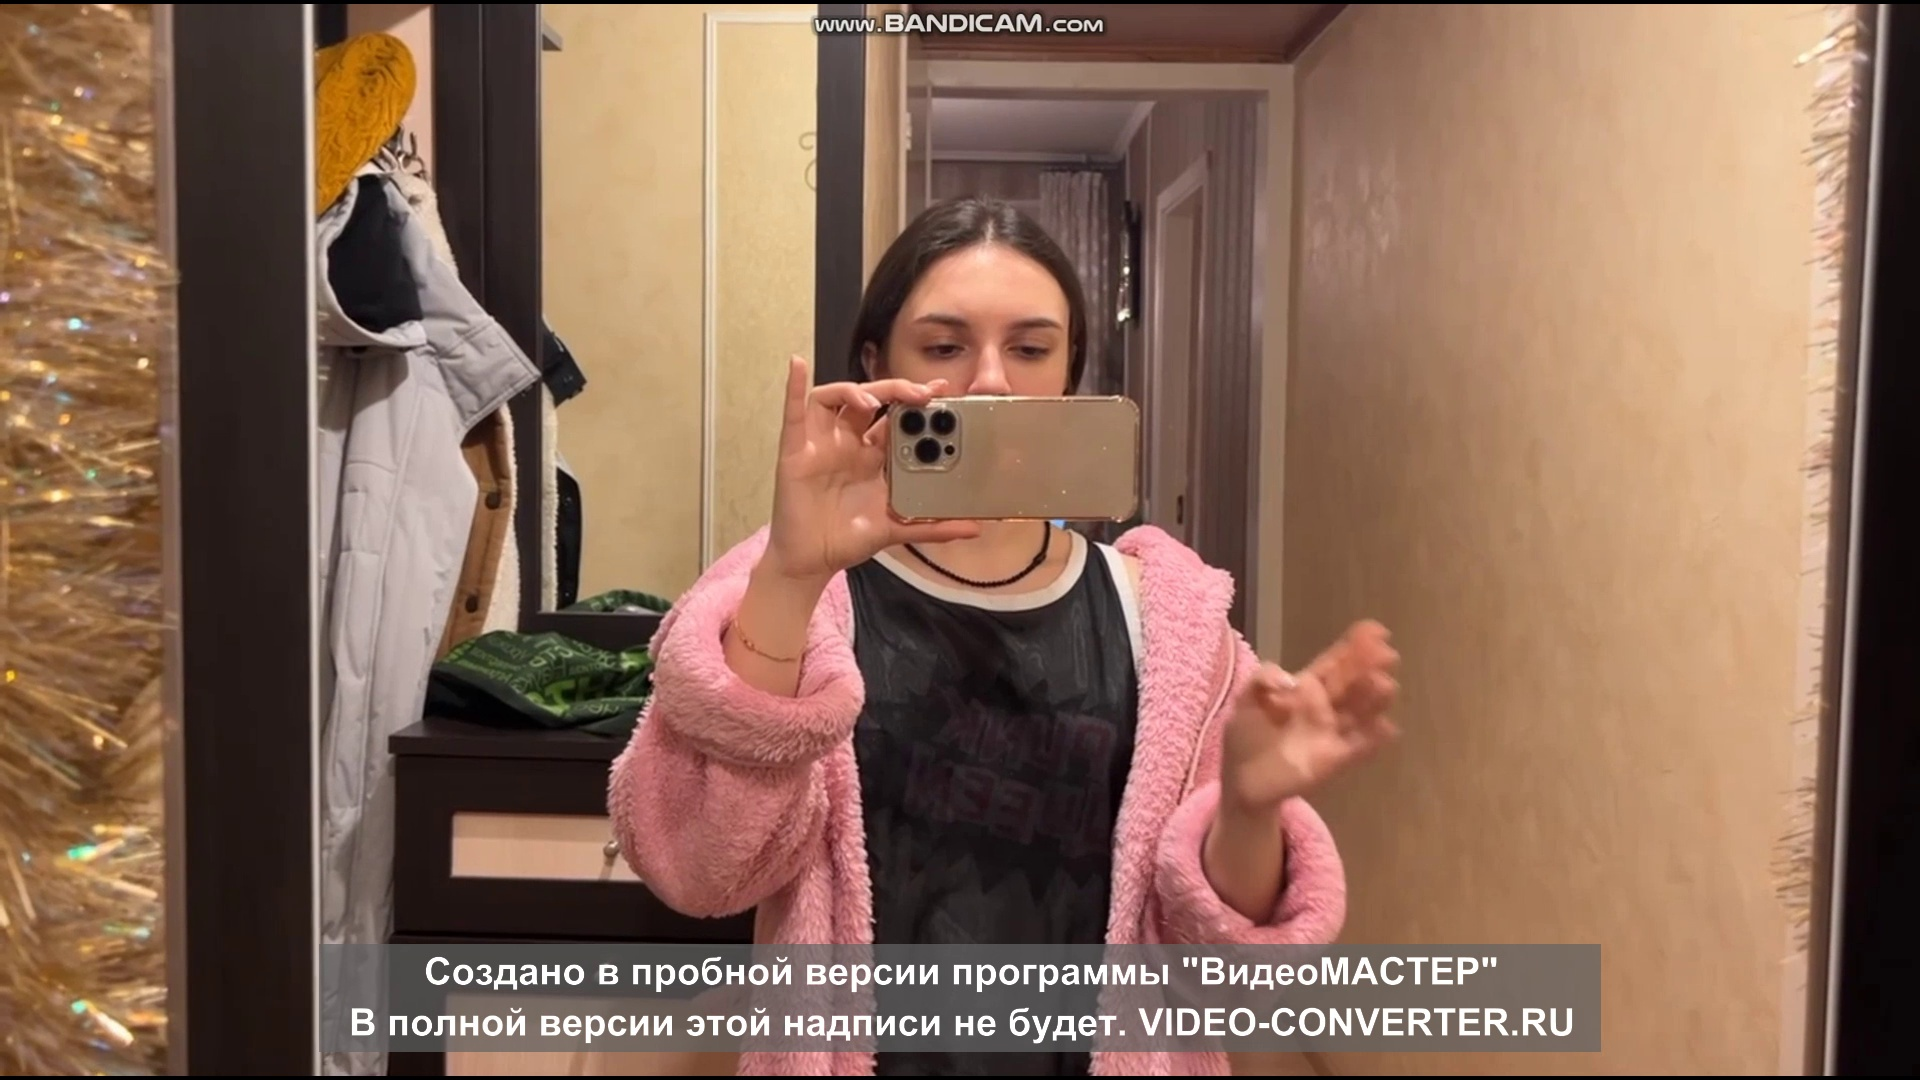Ладонь: (1217, 615, 1404, 803)
